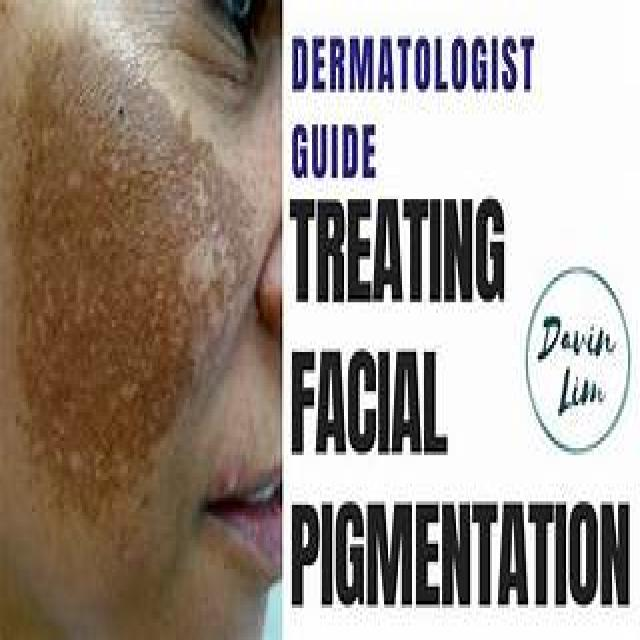pigmentation: (22, 59, 222, 512)
